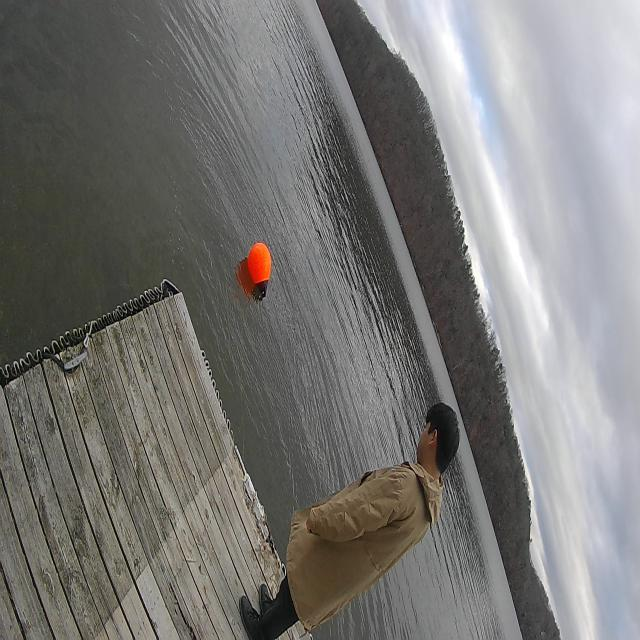Buoy: (239, 227, 282, 313)
